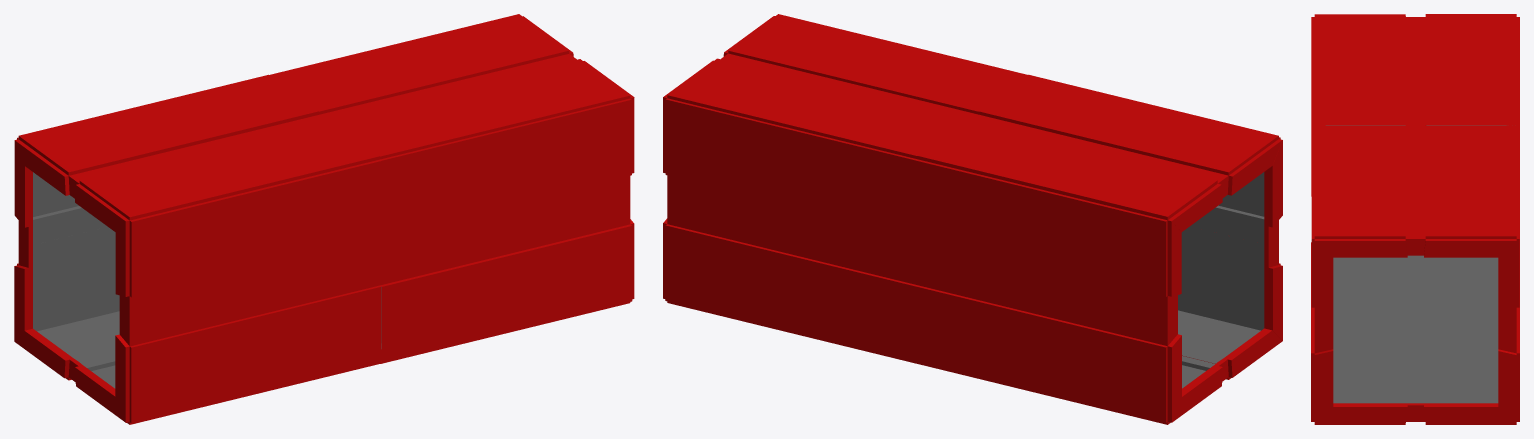
File: Orbit Hollow Container.fbx
3 renders of one model, left to right at view 1: azimuth 30°, elevation 25°; view 2: azimuth 150°, elevation 25°; view 3: azimuth 270°, elevation 25°, orthographic. The views are drawn at different scales.
Visible parts, largest first — view 1: Shipping_Container_Hollow; view 2: Shipping_Container_Hollow; view 3: Shipping_Container_Hollow.
Boxes of the visible parts, x1,y1,x2,y2 form: Shipping_Container_Hollow: (14, 14, 634, 424); Shipping_Container_Hollow: (663, 14, 1282, 424); Shipping_Container_Hollow: (1311, 14, 1519, 424).
Bounding box in the file's own units: 1322 × 517 × 517.
